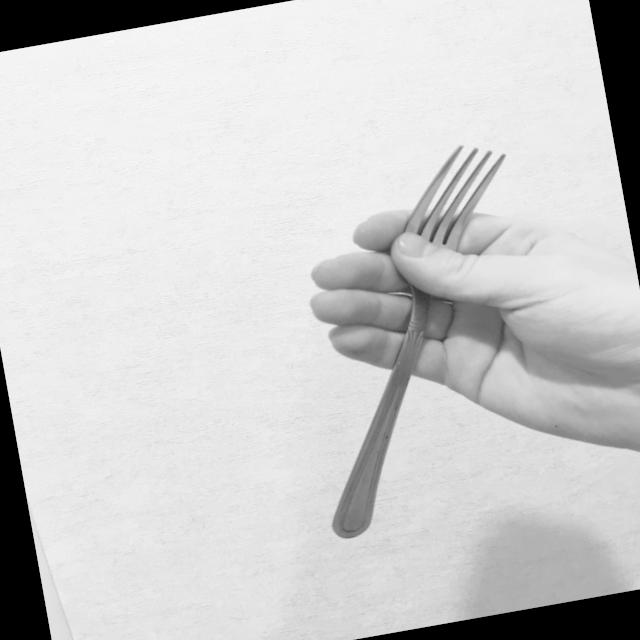fork: (268, 137, 570, 540)
